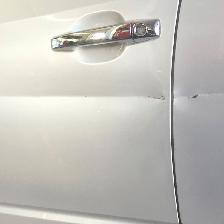scrach: (138, 87, 207, 117)
